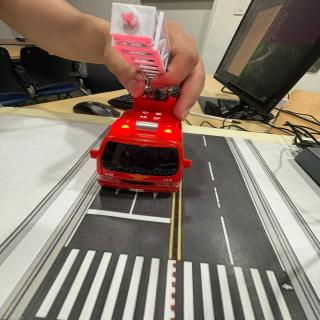Fire_truck: (90, 94, 192, 195)
